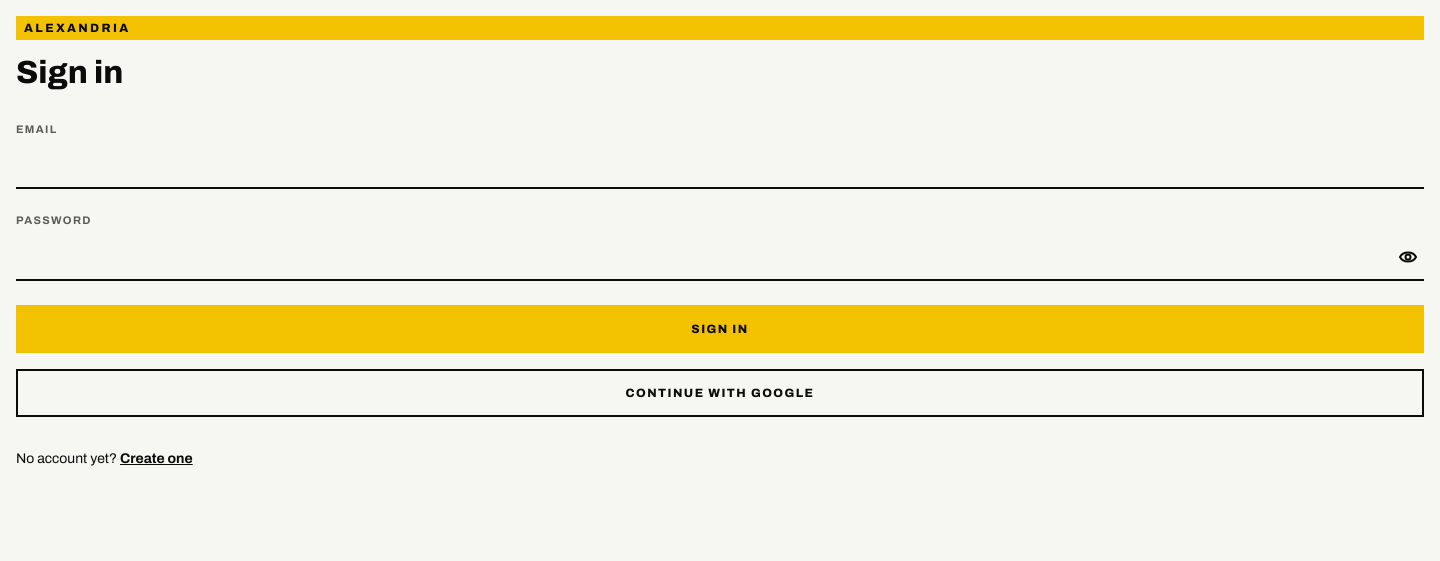
Test: Login › explains pending approval in words when Cognito says the user is unconfirmed
The image size is (1440, 561).
Type "a@b.c" into the field labelled "Email".
click(720, 165); type("a@b.c")  # box [16, 141, 1424, 189]
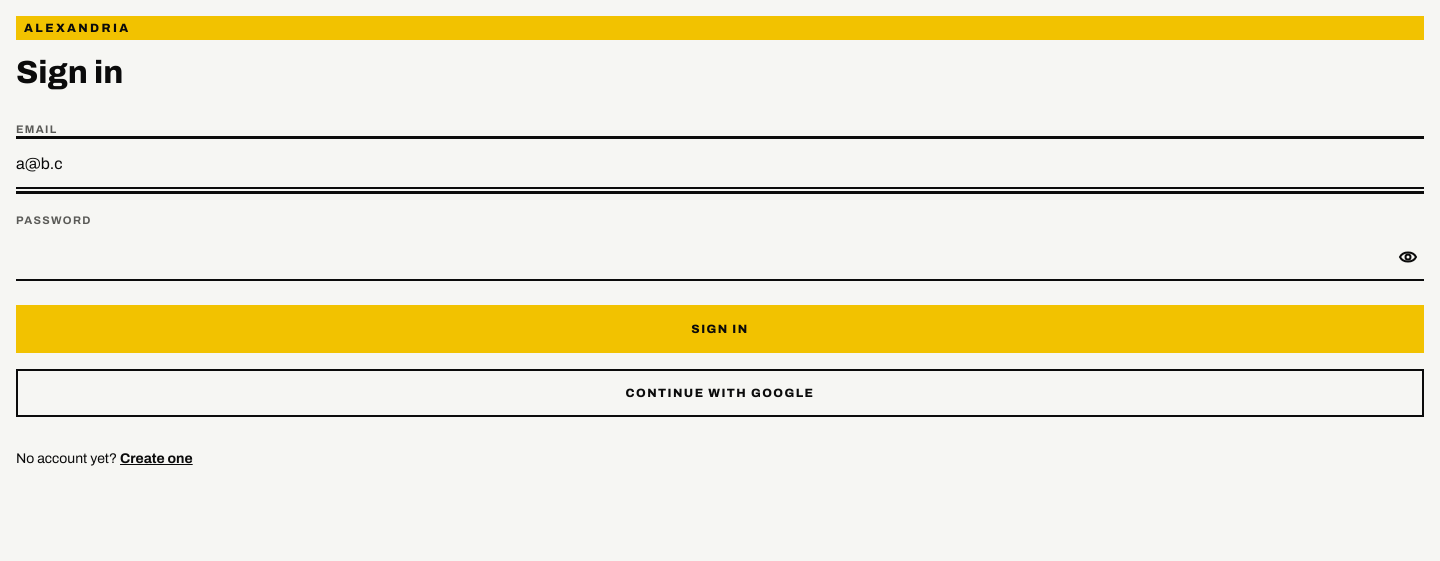
Type "Secret1!" into the password field labelled "Password".
click(700, 257); type("Secret1!")  # box [16, 233, 1384, 281]
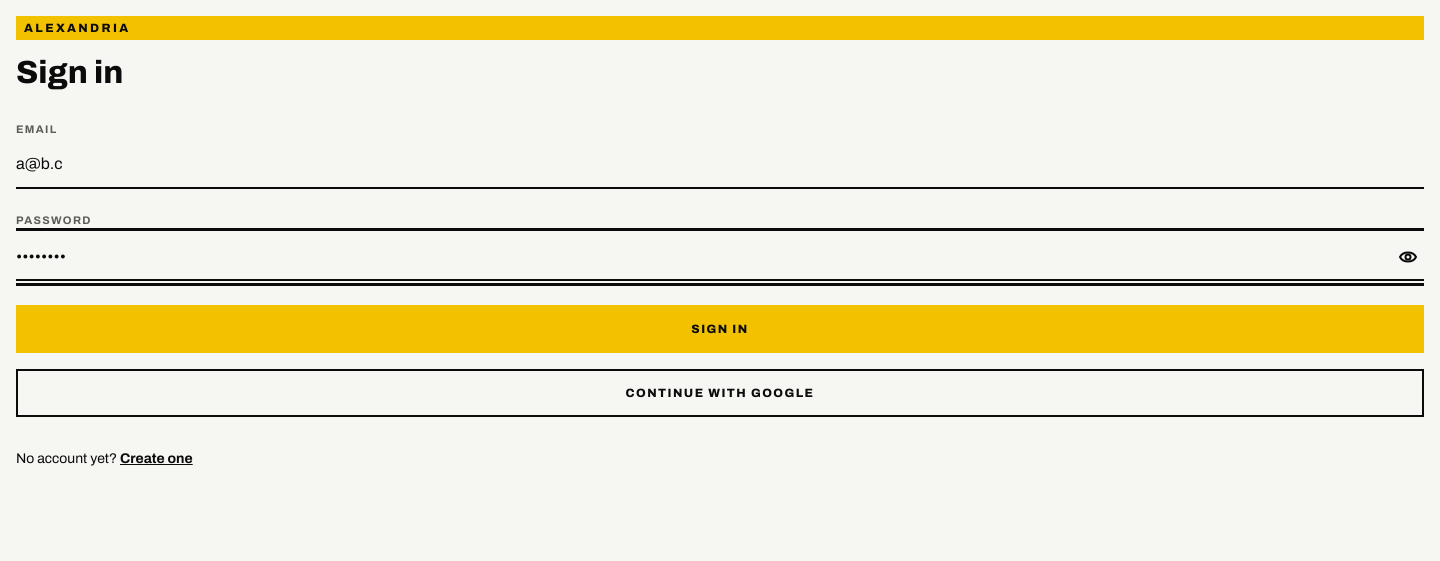
Click the button "Sign in".
click(720, 329)  # box [16, 305, 1424, 353]
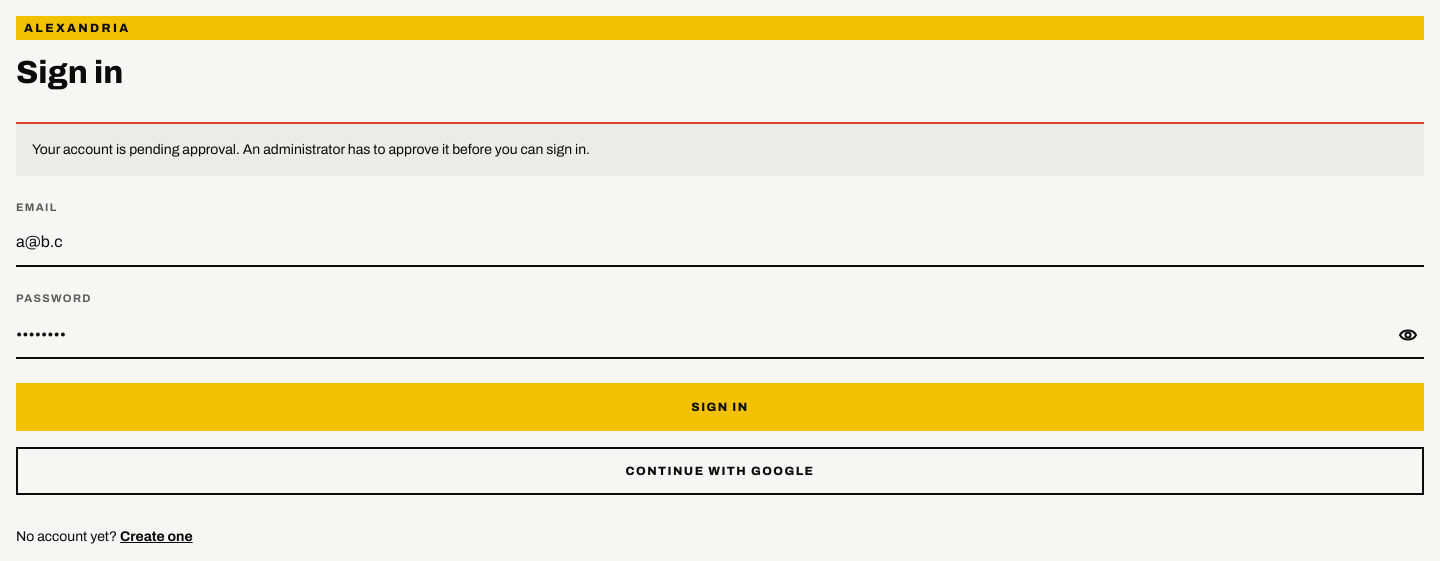
Now the message shows "pending approval", box [32, 142, 590, 157]
